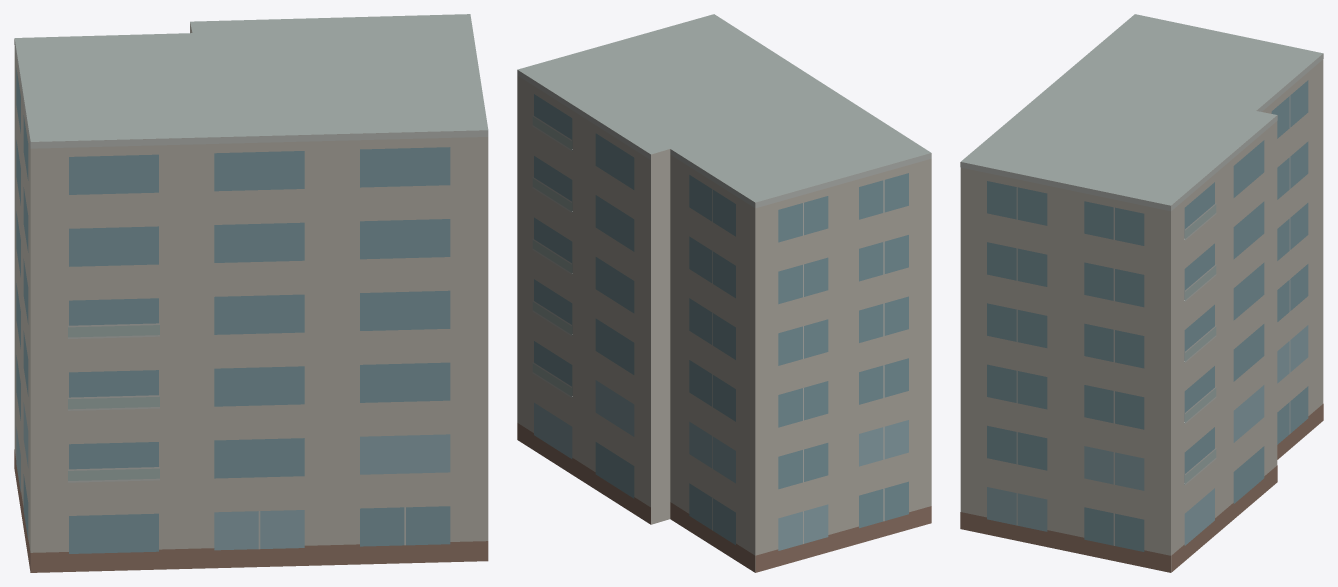
File: survey-upis-32852733.glb
3 views of the same model, side by side, from view 1: azimuth 30°, elevation 25°; view 2: azimuth 150°, elevation 25°; view 3: azimuth 270°, elevation 25° (orthographic). The views are drawn at different scales.
Parts seen in each view (by area): view 1: survey-upis-32852733.tmp; view 2: survey-upis-32852733.tmp; view 3: survey-upis-32852733.tmp.
Boxes of the visible parts, <box> form: survey-upis-32852733.tmp: <box>14,14,488,572</box>; survey-upis-32852733.tmp: <box>517,14,931,572</box>; survey-upis-32852733.tmp: <box>960,14,1323,572</box>.
Bounding box in the file's own units: 17.7 × 15.8 × 14.17.
